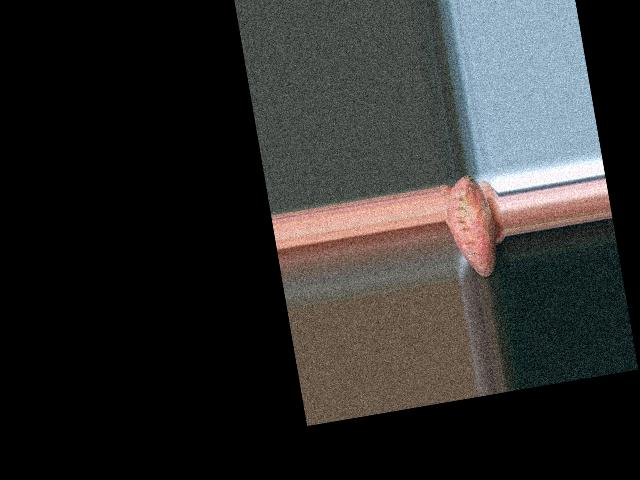sweet_potato: (444, 172, 497, 280)
